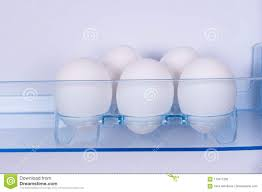eggs: (50, 53, 244, 145)
